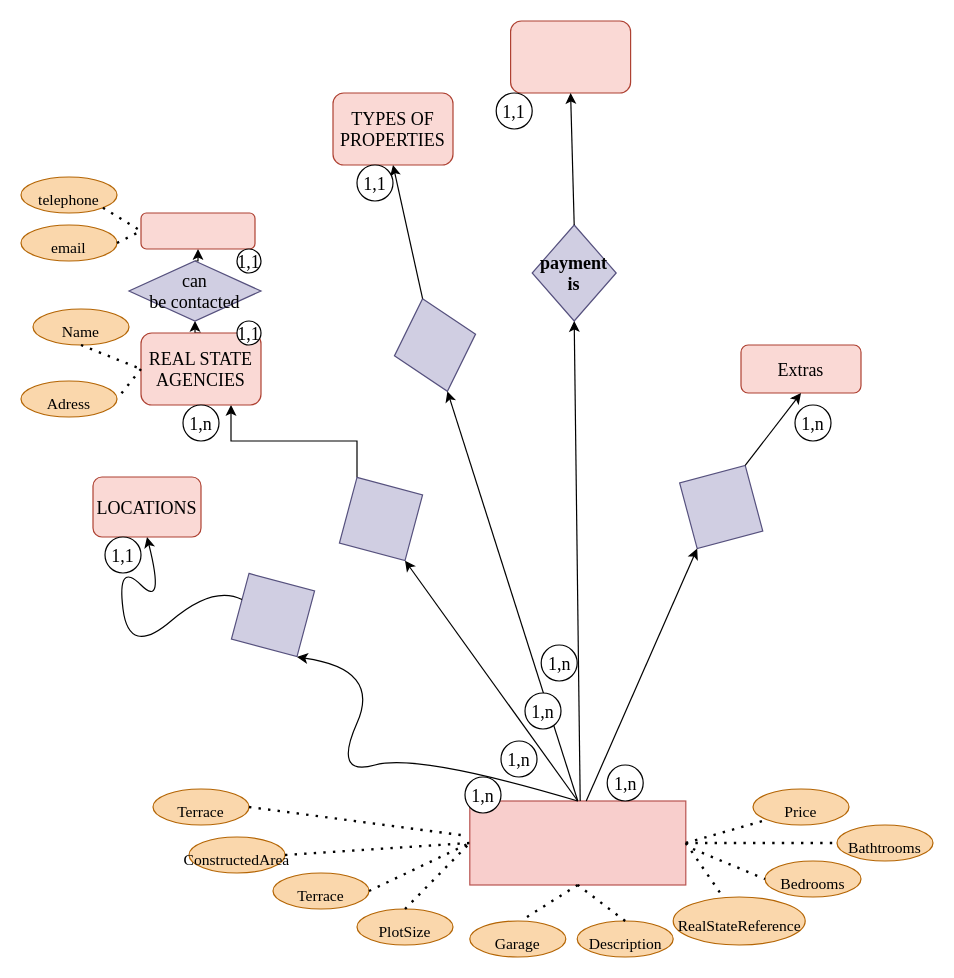
Image size: 954x978. Some labels were removed from this diagram. Here are the shapes that lost their labels. From the top down, the centre of each, then its label:
At point 570,56: "TRANSACTION TYPE".
At point 197,230: "CONTACT".
At point 434,344: "is type of property".
At point 380,518: "are sold by".
At point 720,506: "has".
At point 272,614: "is located at".
At point 577,842: "Properties".
